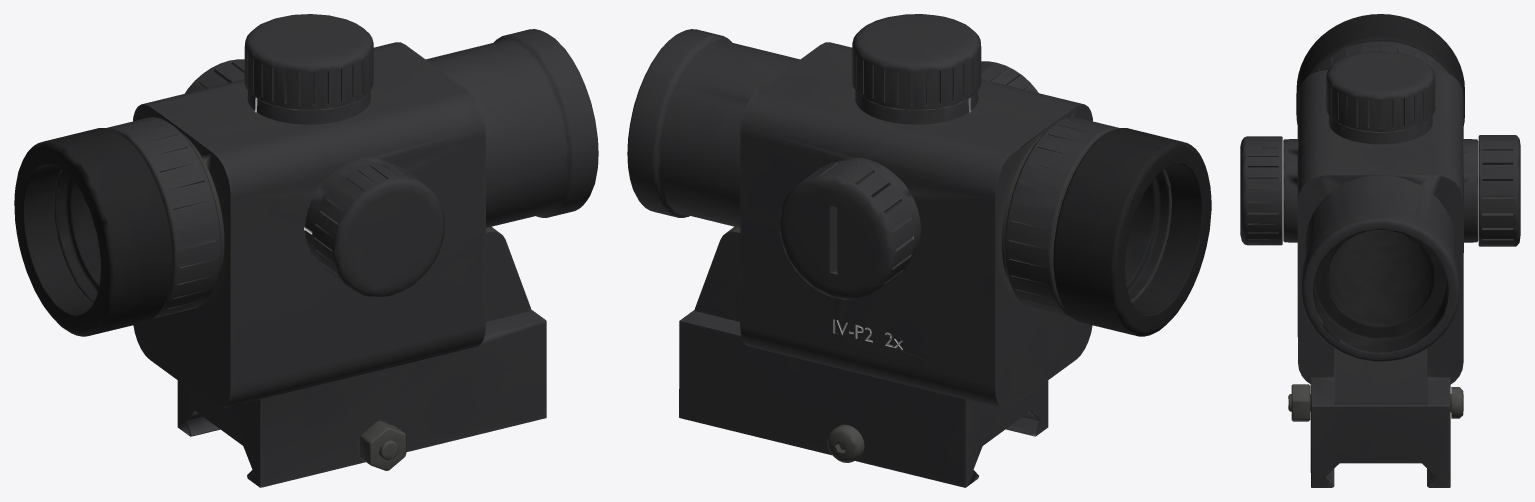
Rendered from SM_IVP2_Prism_LOD1.fbx.
The picture shows the model from 3 angles, left to right: view 1: azimuth 30°, elevation 25°; view 2: azimuth 150°, elevation 25°; view 3: azimuth 270°, elevation 25°; orthographic projection. The views are drawn at different scales.
Visible parts, largest first — view 1: SM_IVP2_Prism_LOD1; view 2: SM_IVP2_Prism_LOD1; view 3: SM_IVP2_Prism_LOD1.
Boxes of the visible parts, box(x1,y1,x2,y2) form: SM_IVP2_Prism_LOD1: box(14, 14, 598, 487); SM_IVP2_Prism_LOD1: box(627, 14, 1211, 487); SM_IVP2_Prism_LOD1: box(1240, 14, 1520, 487).
Bounding box in the file's own units: 9.25 × 7.22 × 5.41.
Materials: 3 (1 with a texture image).
